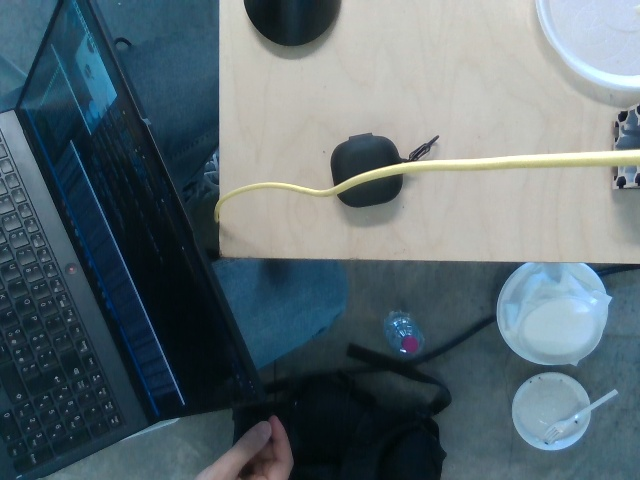cube_hackaton: (326, 129, 403, 210)
